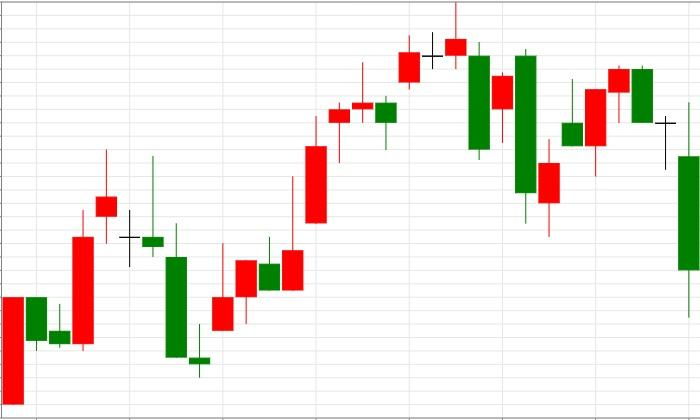bearish_engulfing_fall: (538, 66, 654, 237)
morning_star_rise: (96, 148, 234, 378)
shooting_star_fall: (282, 2, 466, 290)
